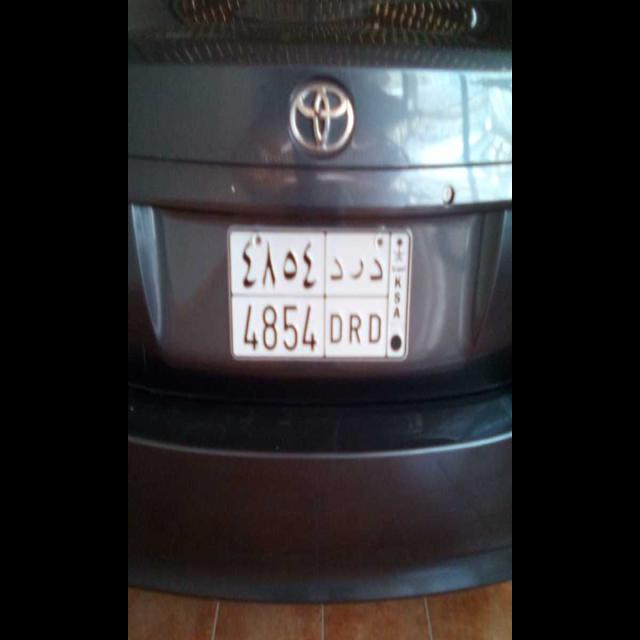license_plate: (228, 291, 390, 360)
